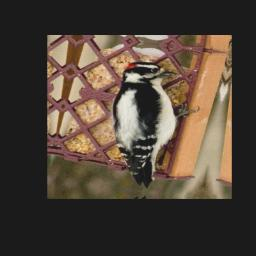Woodpecker: (98, 59, 208, 192)
